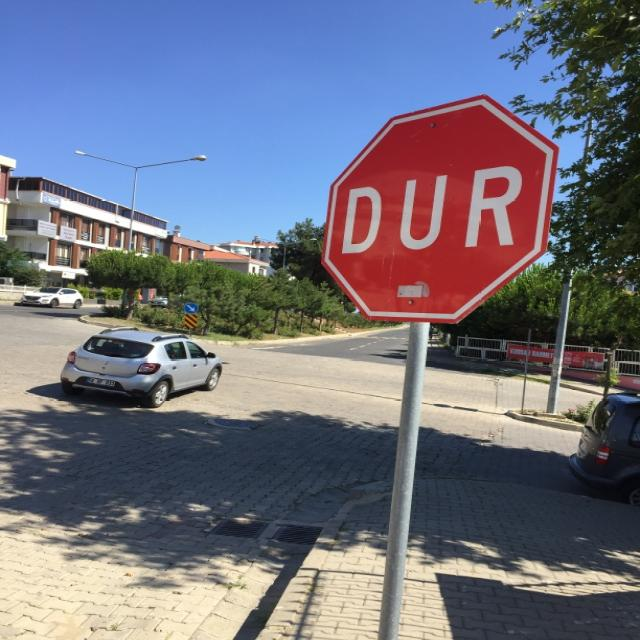dur: (321, 94, 561, 322)
